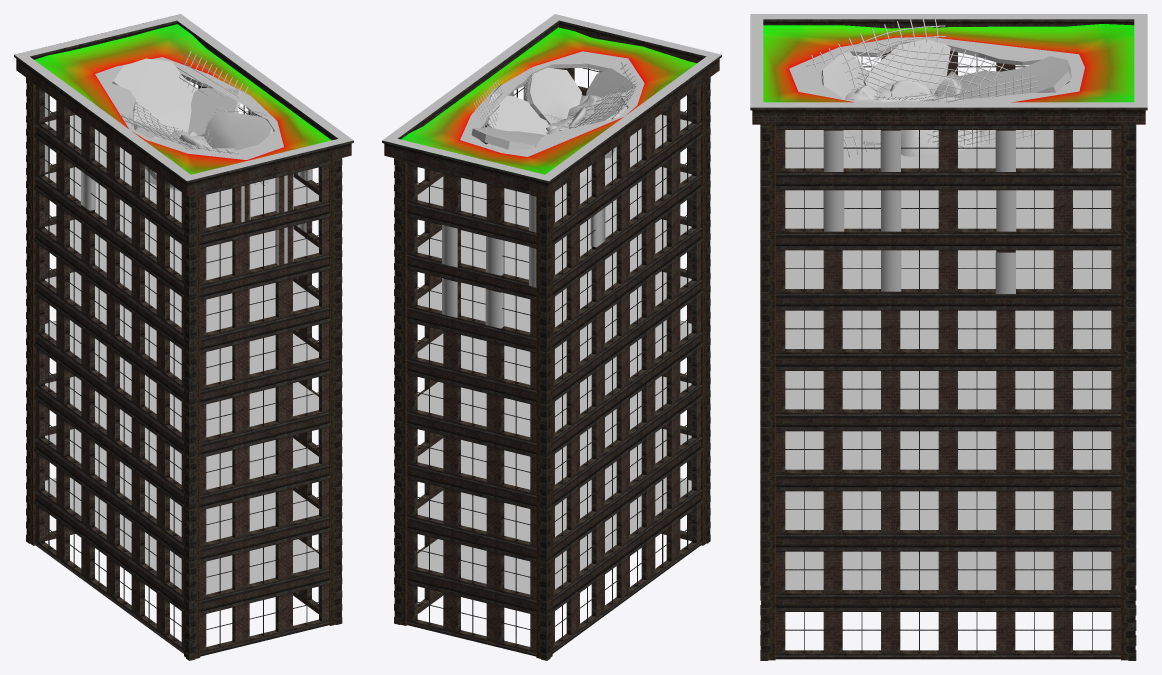
Rendered from BuildingRedBig01.fbx.
3 renders of one model, left to right at view 1: azimuth 30°, elevation 25°; view 2: azimuth 150°, elevation 25°; view 3: azimuth 270°, elevation 25°, orthographic. The views are drawn at different scales.
Visible parts, largest first — view 1: Cube.011, Cube.018, Cube.085, Cube.080, Plane.017, Cube.082, Cube.084; view 2: Cube.011, Cube.018, Cube.085, Cube.080, Plane.017, Cube.084, Cube.096, Cube.093, Cube.097, Cube.095, Cube.099, Cube.082; view 3: Cube.011, Cube.018, Cube.085, Cube.080, Plane.017, Cube.084, Plane.018, Cube.083, Cube.082, Cube.091, Cube.023, Cube.086 (+6 smaller).
Boxes of the visible parts, x1=… form: Cube.011: x1=26, y1=77, x2=342, y2=660; Cube.018: x1=14, y1=14, x2=353, y2=195; Cube.085: x1=34, y1=24, x2=331, y2=174; Cube.080: x1=99, y1=58, x2=280, y2=187; Plane.017: x1=95, y1=57, x2=283, y2=159; Cube.082: x1=177, y1=51, x2=248, y2=108; Cube.084: x1=133, y1=102, x2=211, y2=148; Cube.011: x1=394, y1=68, x2=710, y2=660; Cube.018: x1=382, y1=14, x2=721, y2=195; Cube.085: x1=401, y1=27, x2=696, y2=180; Cube.080: x1=469, y1=59, x2=640, y2=158; Plane.017: x1=460, y1=51, x2=644, y2=156; Cube.084: x1=545, y1=92, x2=626, y2=135; Cube.096: x1=485, y1=288, x2=504, y2=328; Cube.093: x1=486, y1=236, x2=504, y2=275; Cube.097: x1=442, y1=225, x2=457, y2=267; Cube.095: x1=442, y1=278, x2=457, y2=317; Cube.099: x1=590, y1=207, x2=605, y2=247; Cube.082: x1=473, y1=80, x2=502, y2=146; Cube.011: x1=760, y1=50, x2=1136, y2=660; Cube.018: x1=750, y1=14, x2=1147, y2=124; Cube.085: x1=763, y1=24, x2=1134, y2=102; Cube.080: x1=812, y1=39, x2=1074, y2=145; Plane.017: x1=789, y1=37, x2=1084, y2=102; Cube.084: x1=857, y1=39, x2=1008, y2=147; Plane.018: x1=901, y1=95, x2=985, y2=156; Cube.083: x1=806, y1=16, x2=948, y2=157; Cube.082: x1=932, y1=72, x2=1039, y2=145; Cube.091: x1=995, y1=250, x2=1015, y2=293; Cube.023: x1=996, y1=190, x2=1016, y2=231; Cube.086: x1=995, y1=130, x2=1015, y2=171.
Size of what is drawn, in the model's own units: 1360 by 3855 by 2440.
